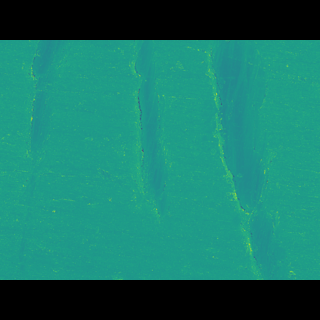Loch: (204, 68, 299, 248), (1, 69, 75, 248), (125, 70, 179, 208)
